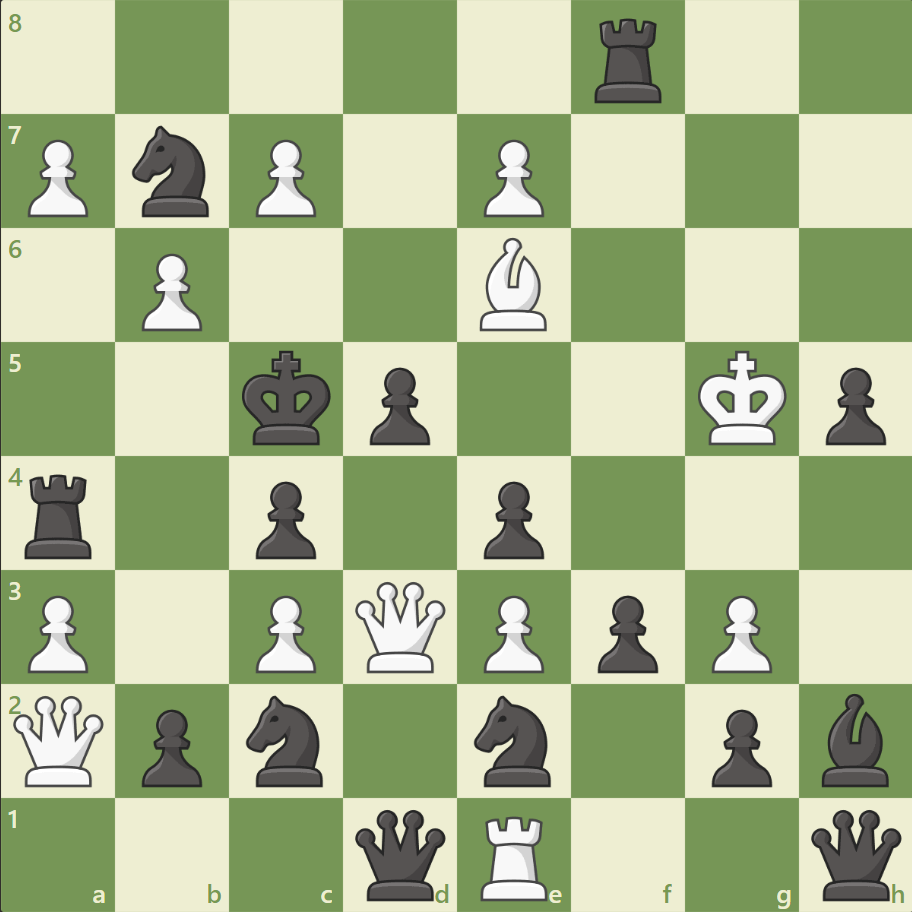B: (471, 233, 555, 336)
K: (692, 344, 792, 452)
P: (20, 132, 95, 223), (247, 132, 322, 223), (474, 132, 549, 223), (133, 246, 208, 337), (20, 586, 95, 677), (247, 586, 322, 677), (474, 586, 549, 677), (701, 586, 776, 677)
Q: (351, 576, 450, 676), (10, 690, 109, 789)
R: (473, 806, 556, 904)
b: (812, 687, 896, 790)
k: (238, 344, 338, 452)
n: (124, 121, 222, 223), (238, 688, 335, 791), (465, 688, 562, 791)
p: (247, 473, 322, 564), (474, 473, 549, 564), (133, 700, 208, 791), (701, 700, 776, 791), (361, 359, 435, 450), (815, 359, 889, 450), (588, 586, 662, 677)
q: (351, 804, 450, 903), (805, 804, 904, 903)
r: (587, 12, 670, 109), (19, 466, 102, 563)
